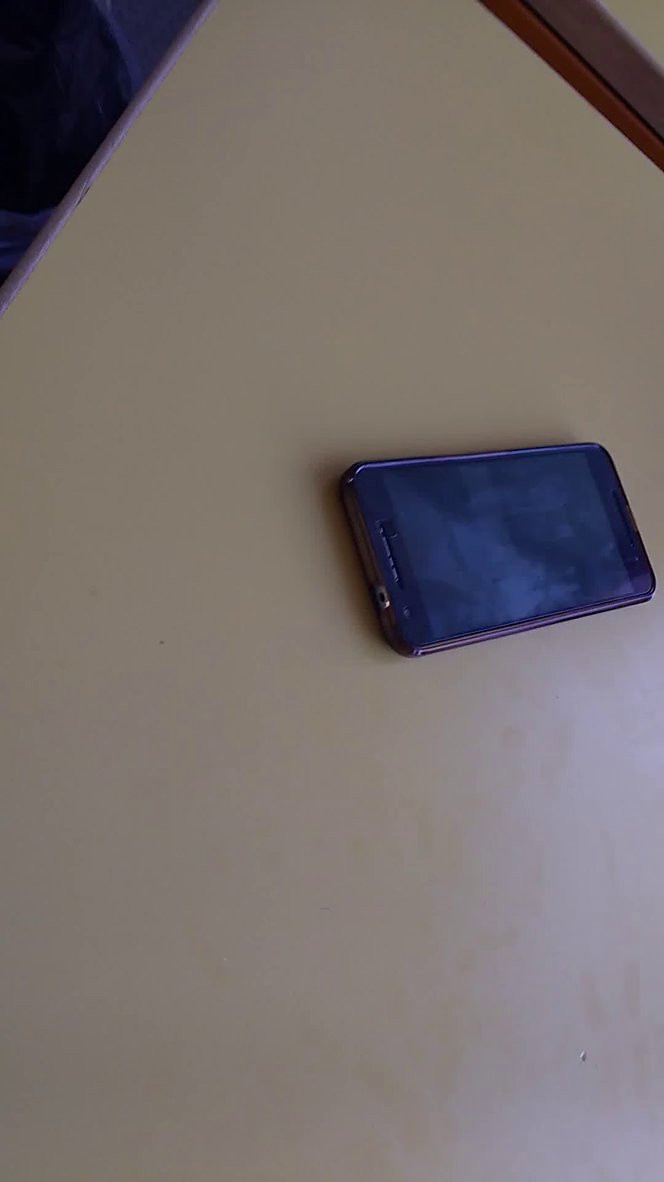phone: (324, 424, 664, 676)
